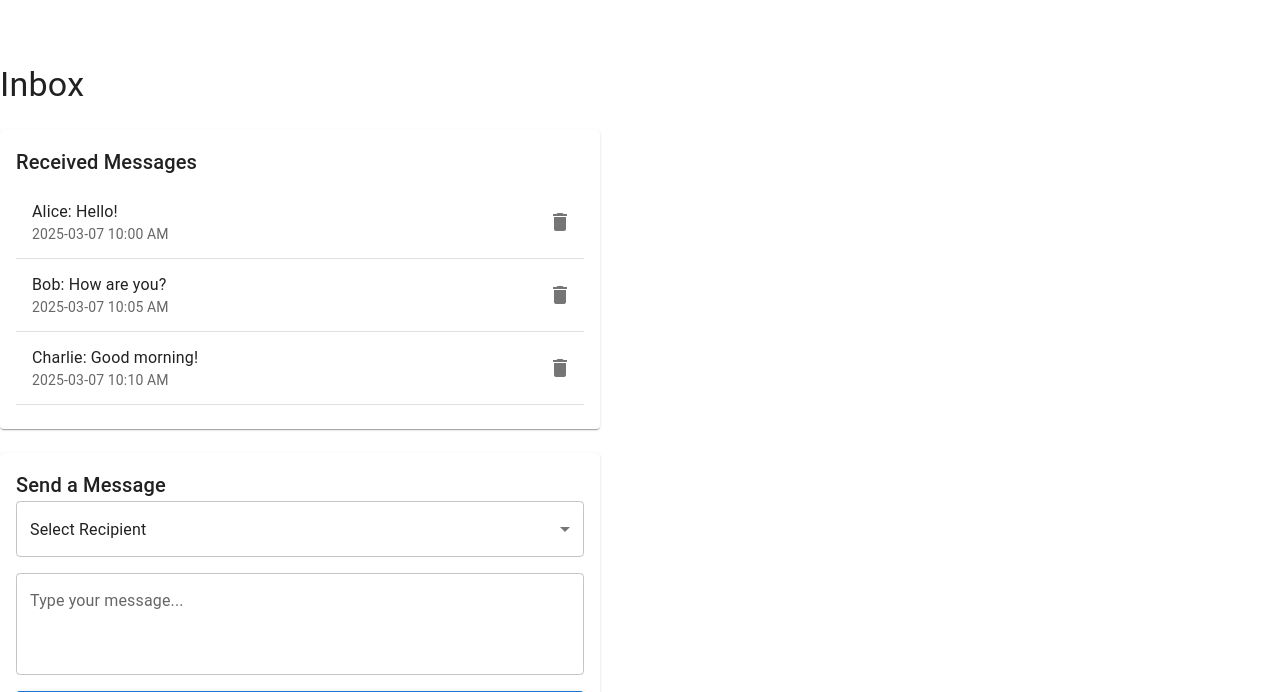
Test: Inbox Component › deletes a message
The image size is (1280, 692).
Click delete on the first message
Click the button named "delete" in the row of "Alice: Hello!" at (560, 222), box [540,202,580,242]
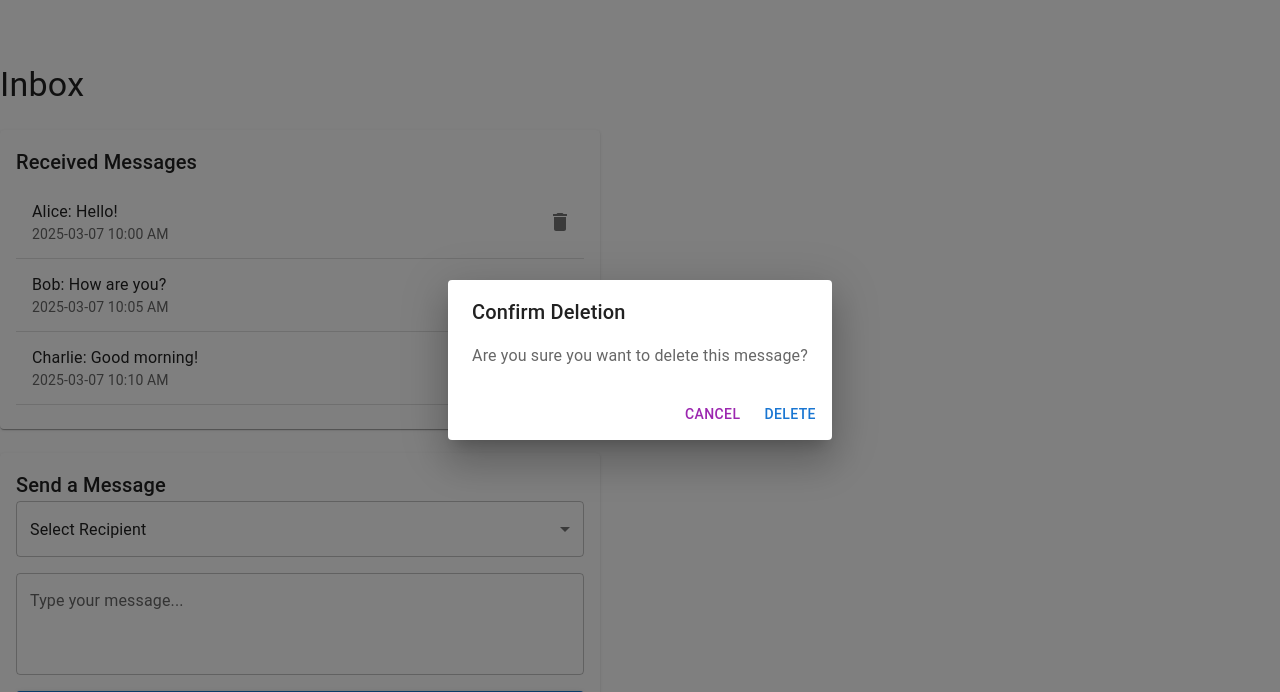
Check: the heading "Confirm Deletion" is shown, box [472,300,626,324]
Confirm deletion
Click the button "Delete" at (790, 414), box [756,396,824,432]
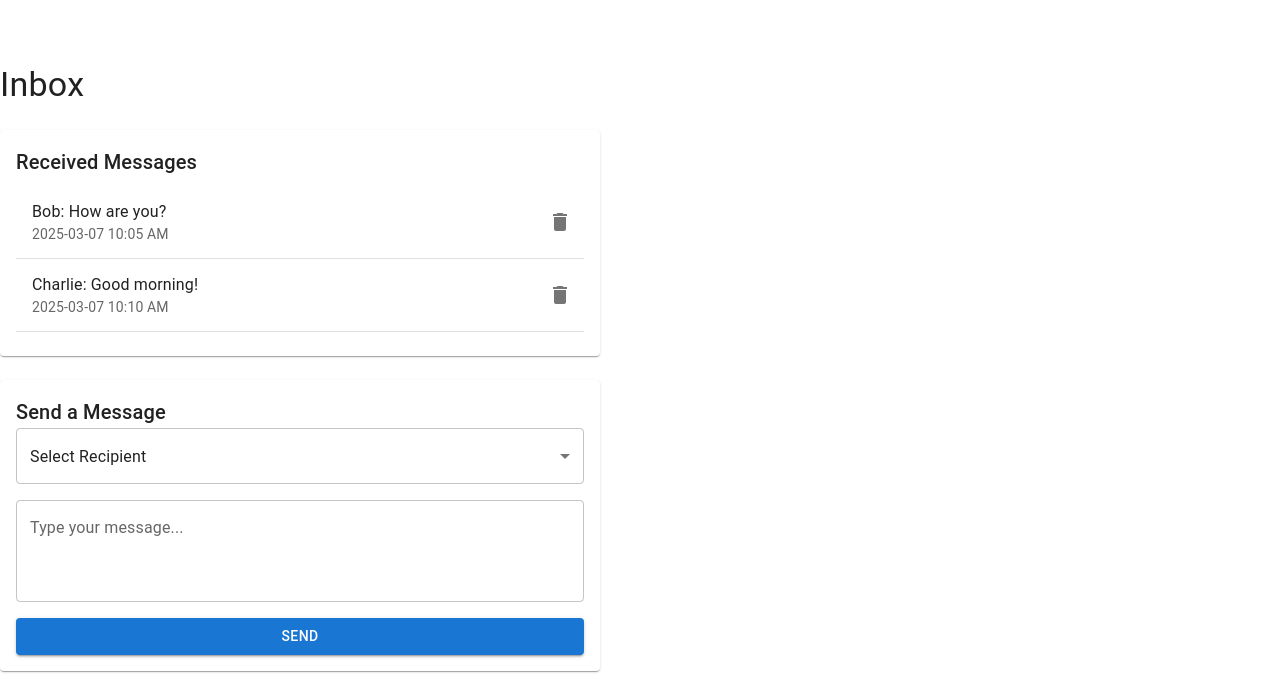
Check: the text "Alice: Hello!" is gone
